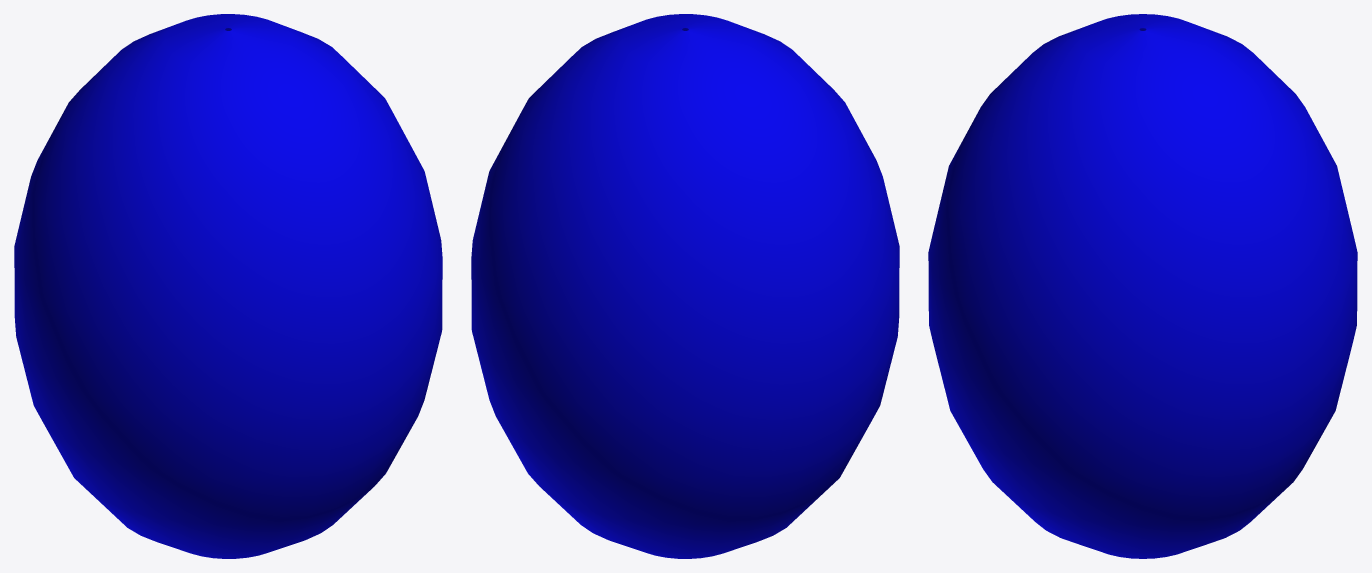
The model's file is death_cap_growth.glb.
The picture shows the model from 3 angles, left to right: view 1: azimuth 30°, elevation 25°; view 2: azimuth 150°, elevation 25°; view 3: azimuth 270°, elevation 25°; orthographic projection.
Parts seen in each view (by area): view 1: DeathCap; view 2: DeathCap; view 3: DeathCap.
Boxes of the visible parts, x1,y1,x2,y2 form: DeathCap: (14, 14, 442, 558); DeathCap: (471, 14, 899, 558); DeathCap: (928, 14, 1357, 558).
Bounding box in the file's own units: 0.0367 × 0.0485 × 0.0367.
